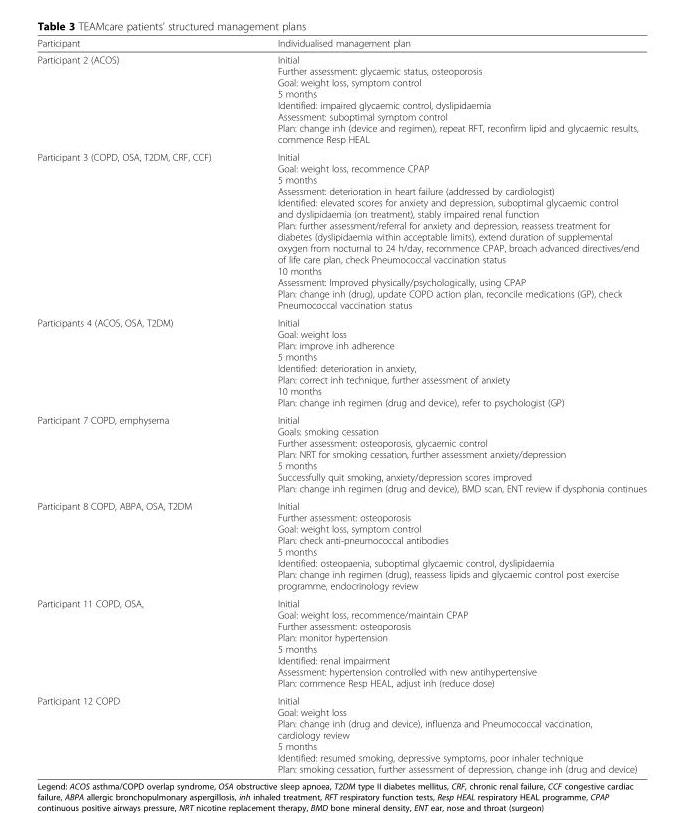table: (36, 37, 646, 774)
table column: (243, 37, 646, 774), (36, 37, 243, 774)
table column header: (36, 37, 646, 51)
table row: (36, 147, 646, 313), (36, 496, 646, 594), (36, 313, 646, 410), (36, 594, 646, 691), (36, 51, 646, 147), (36, 410, 646, 496), (36, 691, 646, 774), (36, 37, 646, 51)
